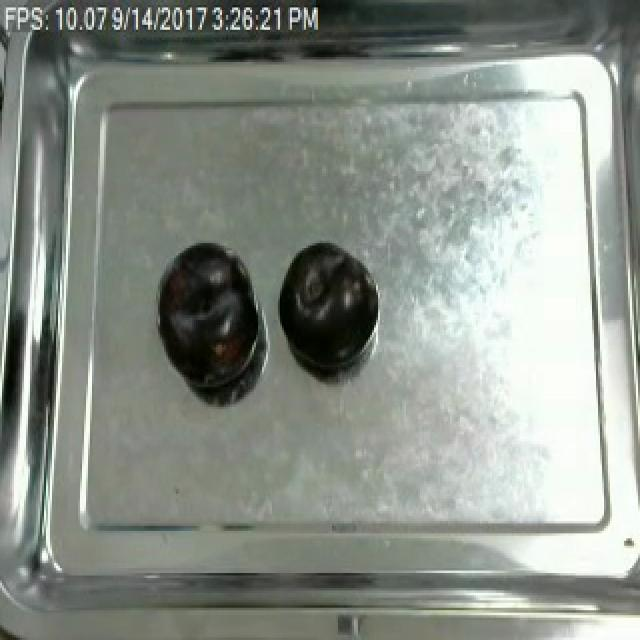Fruit: (154, 241, 264, 392), (274, 238, 374, 377)
